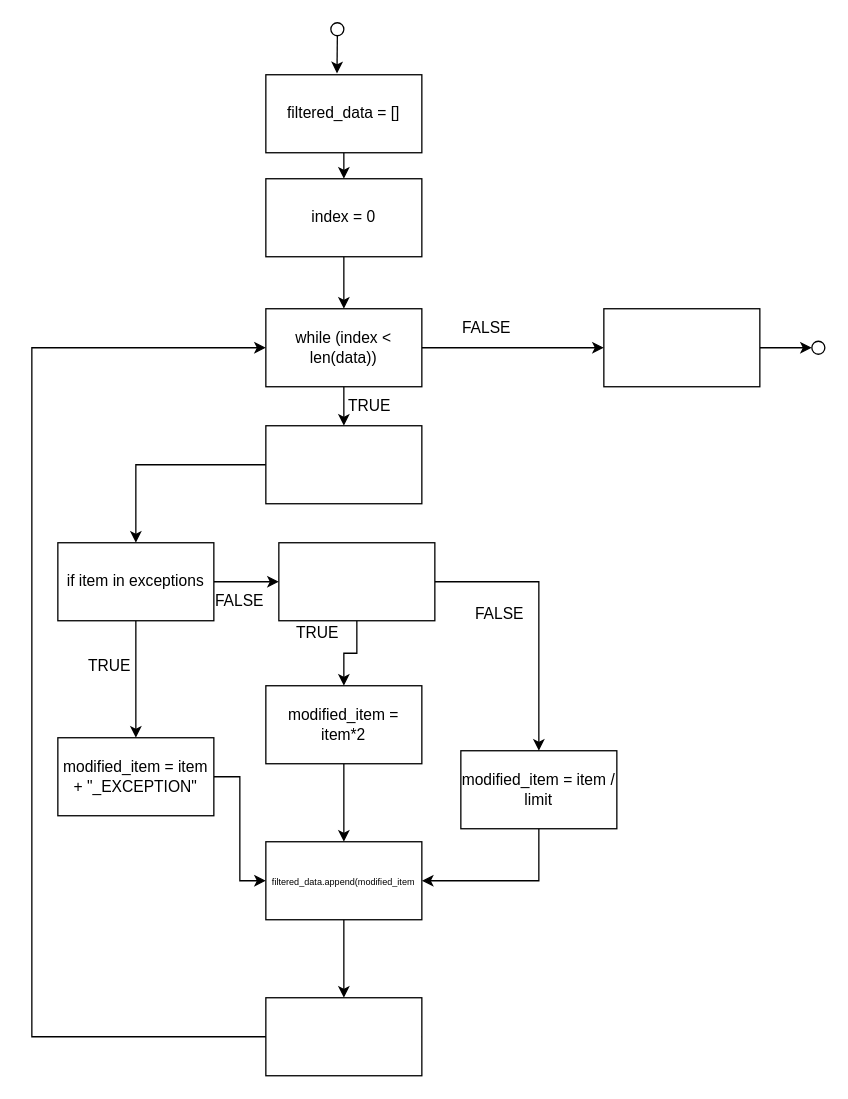
This 848x1099 diagram has some shape labels left out. Here are the shapes that lost their labels. From the top down, the box of each, then its label:
(603, 307, 760, 387): return filtered_data
(265, 424, 422, 504): item = data[index]
(278, 541, 435, 621): else if item > limit
(265, 996, 422, 1076): index += 1
